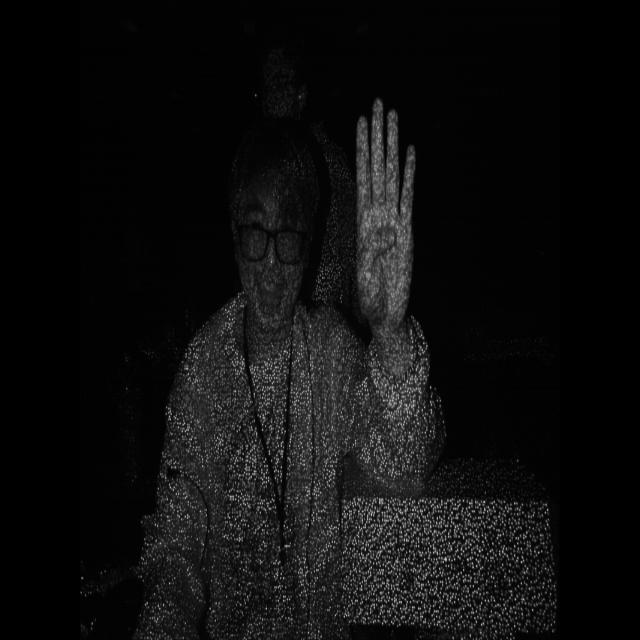B: (350, 89, 427, 350)
